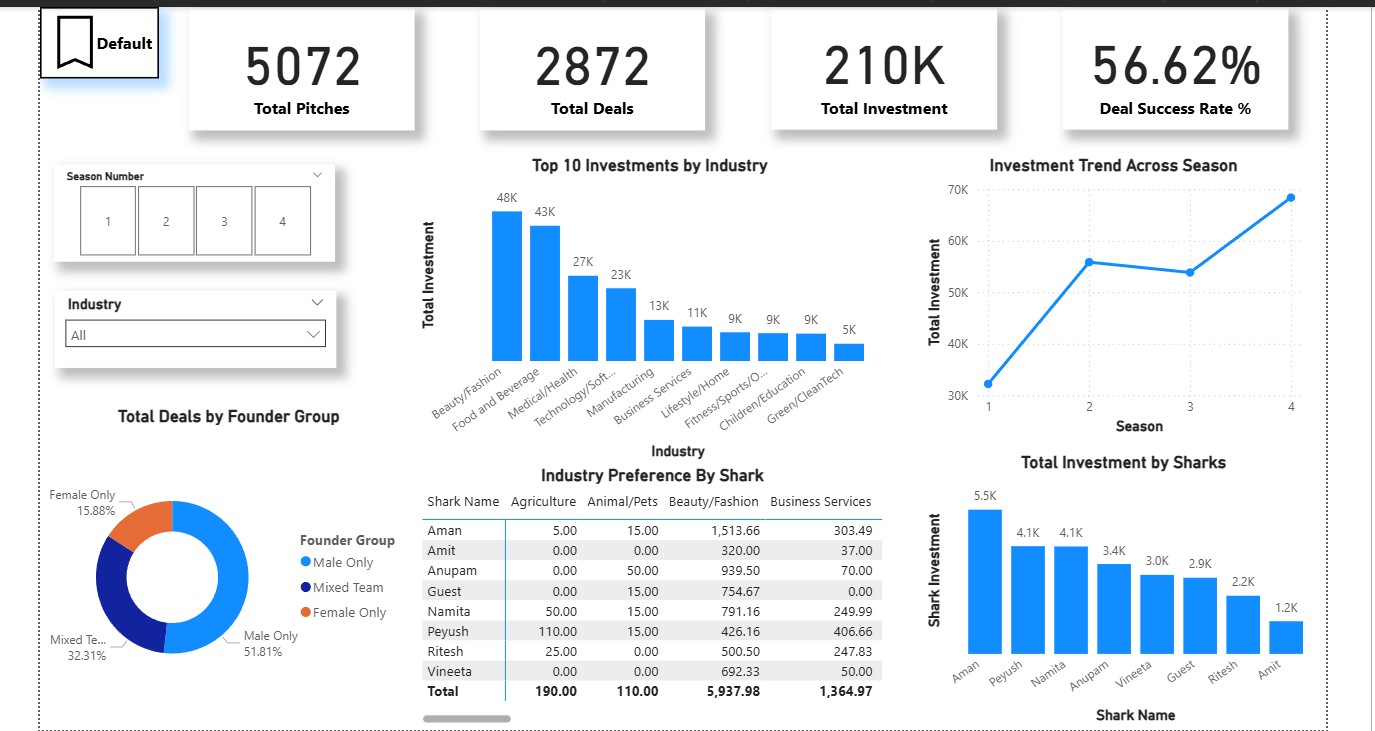

The dashboard page shown, as its layout file describes it:
{"tool":"powerbi","page":{"name":"Page 1","canvas":[1280,720],"ordinal":0},"visuals":[{"type":"card","fields":{"Values":["Shark_Tank_India.Total Pitches"]},"box":[148,1.2,225.2,121.9],"z":0},{"type":"card","fields":{"Values":["Shark_Tank_India.Total Investment"]},"box":[727.7,1.2,225.2,120.7],"z":1000},{"type":"card","fields":{"Values":["Shark_Tank_India.Total Deals"]},"box":[437.9,1.2,223.9,121.9],"z":2000},{"type":"card","fields":{"Values":["Shark_Tank_India.Deal Success Rate %"]},"box":[1017.6,1.2,225.2,120.7],"z":3000},{"type":"clusteredColumnChart","title":"Top 10 Investments by Industry","fields":{"Category":["Shark_Tank_India.Industry"],"Y":["Shark_Tank_India.Total Investment"]},"box":[373.2,146.8,467.7,308.5],"z":4000},{"type":"lineChart","title":"Investment Trend Across Season","fields":{"Category":["Shark_Tank_India.Season Number"],"Y":["Shark_Tank_India.Total Investment"]},"box":[877,146.8,383.1,283.6],"z":5000},{"type":"donutChart","fields":{"Category":["Shark_Tank_India.Founder Group"],"Y":["Shark_Tank_India.Total Deals"]},"box":[0,396.8,375.7,320.9],"z":5001},{"type":"slicer","fields":{"Values":["Shark_Tank_India.Season Number"]},"box":[13.7,156.7,279.9,97],"z":5003},{"type":"slicer","fields":{"Values":["Shark_Tank_India.Industry"]},"box":[14.9,282.4,279.9,77.1],"z":5004},{"type":"clusteredColumnChart","title":"Total Investment by Sharks","fields":{"Category":["Shark_Tank_India.Shark Name"],"Y":["Shark_Tank_India.Shark Investment"]},"box":[877,442.8,403,274.9],"z":5005},{"type":"pivotTable","title":"Industry Preference By Shark","fields":{"Rows":["Shark_Tank_India.Shark Name"],"Columns":["Shark_Tank_India.Industry"],"Values":["Shark_Tank_India.Shark Investment"]},"box":[375.7,455.3,467.7,262.5],"z":5006},{"type":"actionButton","title":"Default","box":[0,0,118.2,70.9],"z":5007}]}

Visuals, with their boxes on the page's 1280x720 design canvas (x1, y1, x2, y2). These are canvas units, not pixel positions in the 1375x731 screenshot, which may show the page scaled, cropped or inside an application window:
card - Shark_Tank_India.Total Pitches: bbox=(148, 1, 373, 123)
card - Shark_Tank_India.Total Investment: bbox=(728, 1, 953, 122)
card - Shark_Tank_India.Total Deals: bbox=(438, 1, 662, 123)
card - Shark_Tank_India.Deal Success Rate %: bbox=(1018, 1, 1243, 122)
"Top 10 Investments by Industry" clusteredColumnChart: bbox=(373, 147, 841, 455)
"Investment Trend Across Season" lineChart: bbox=(877, 147, 1260, 430)
donutChart - Shark_Tank_India.Founder Group x Shark_Tank_India.Total Deals: bbox=(0, 397, 376, 718)
slicer - Shark_Tank_India.Season Number: bbox=(14, 157, 294, 254)
slicer - Shark_Tank_India.Industry: bbox=(15, 282, 295, 360)
"Total Investment by Sharks" clusteredColumnChart: bbox=(877, 443, 1280, 718)
"Industry Preference By Shark" pivotTable: bbox=(376, 455, 843, 718)
"Default" actionButton: bbox=(0, 0, 118, 71)
